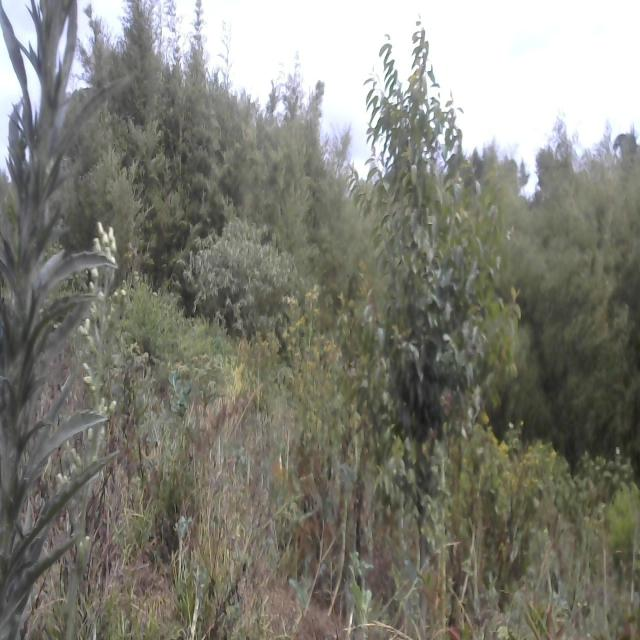Prunus Africana: (359, 21, 525, 538)
